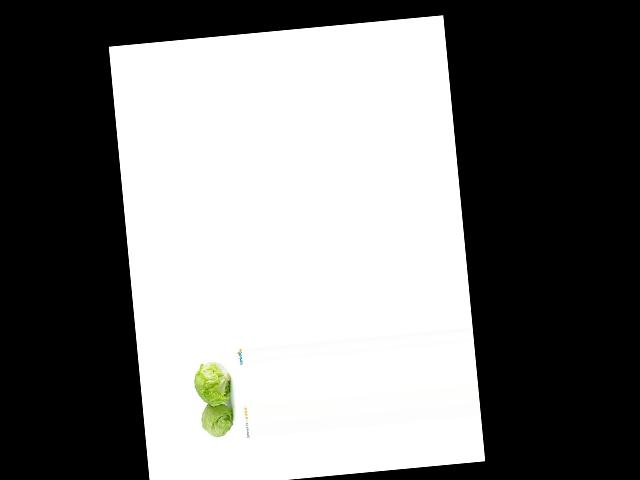lettuce: (198, 391, 242, 439)
